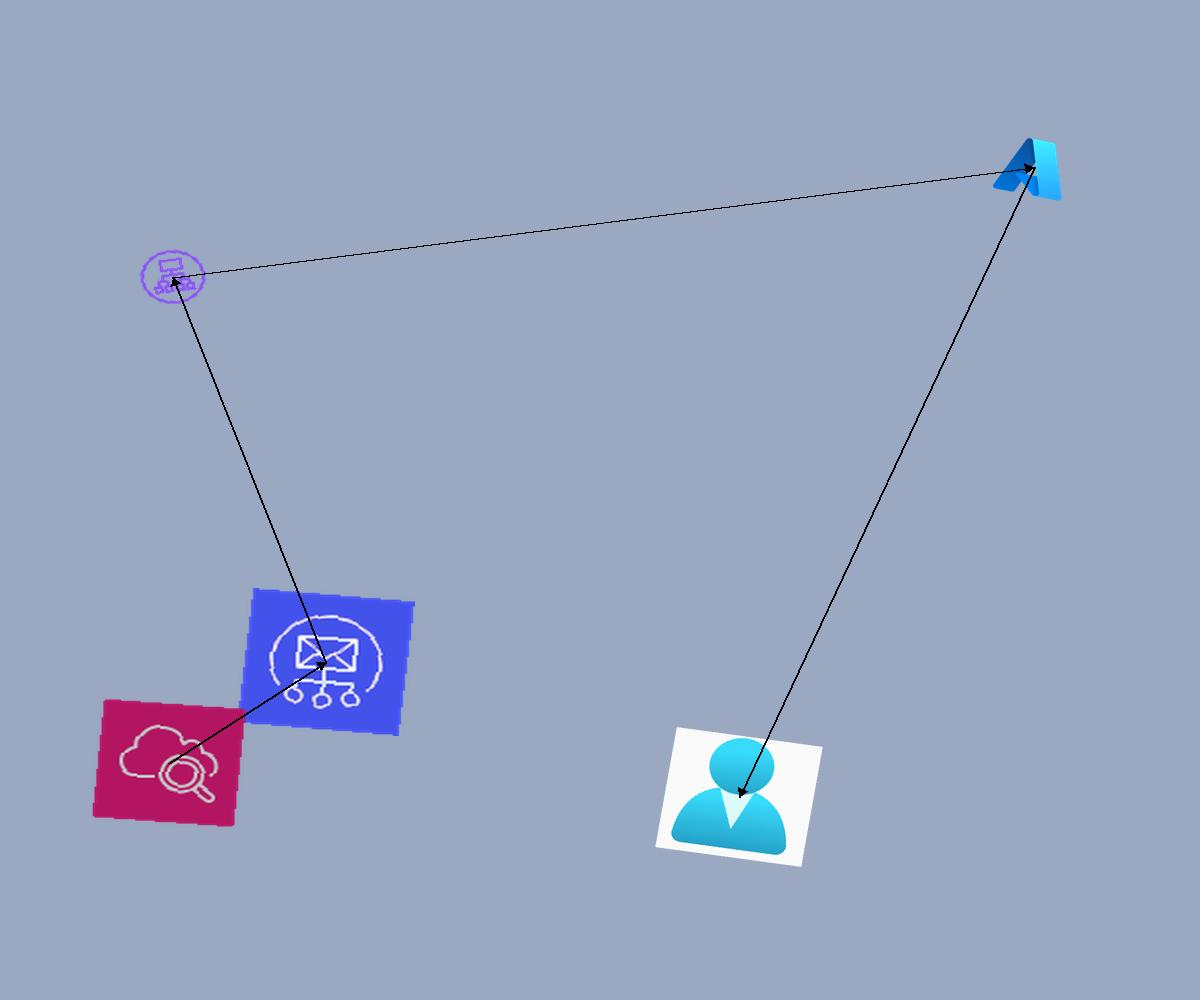AWS-CloudWatch: (91, 698, 247, 828)
AWS-Res_Elastic-Load-Balancing_Application-Load-Balancer: (132, 243, 214, 311)
AWS-Simple-Email-Service: (237, 588, 415, 736)
Azure_services: (988, 129, 1080, 206)
Azure_users: (655, 727, 823, 867)
